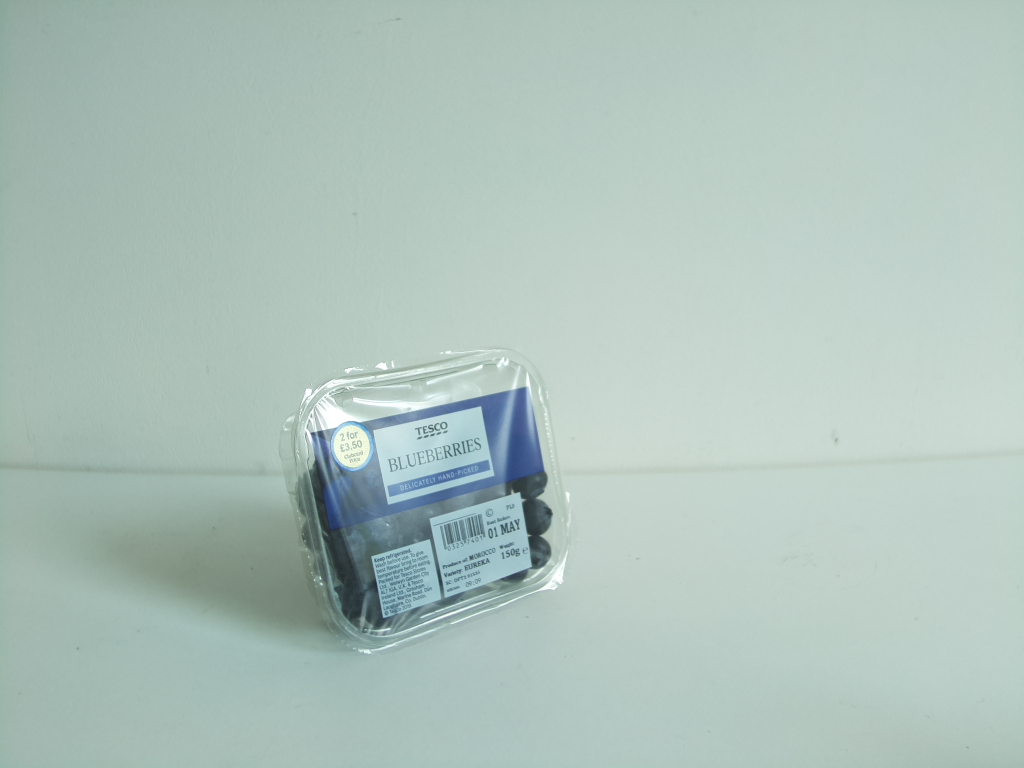soft-fruit: (287, 354, 566, 654)
